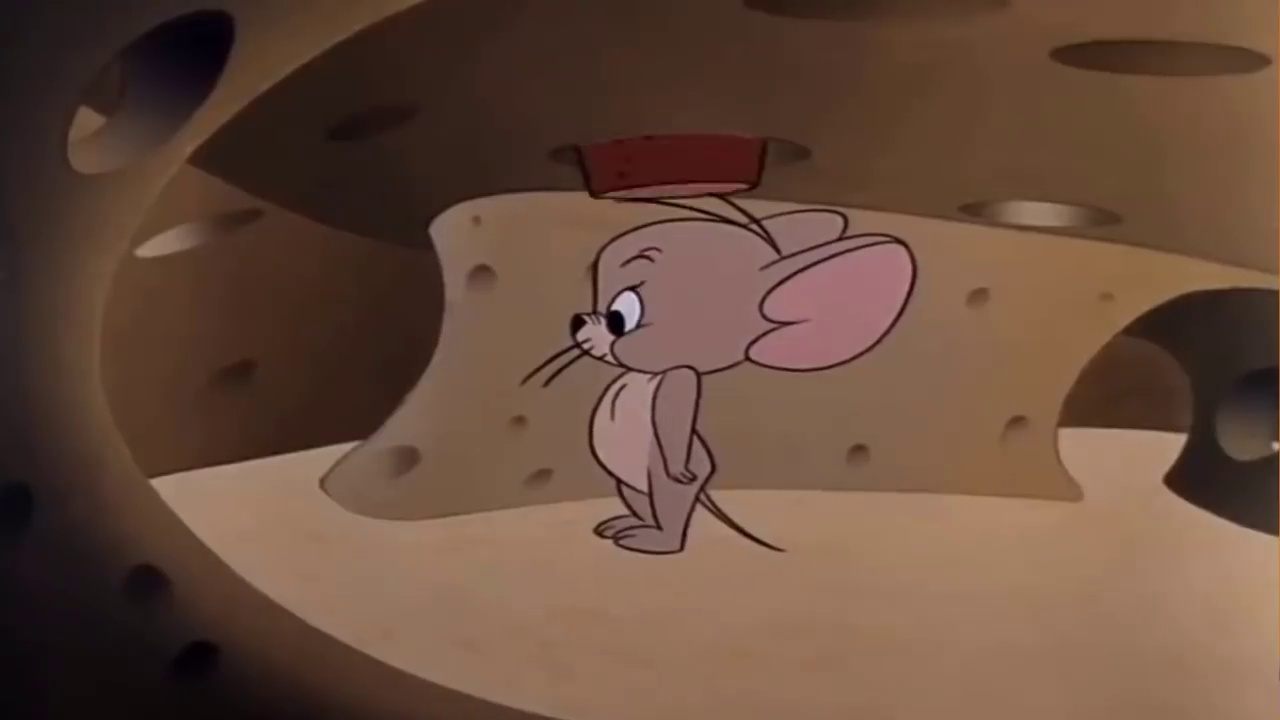face: (576, 249, 677, 371)
